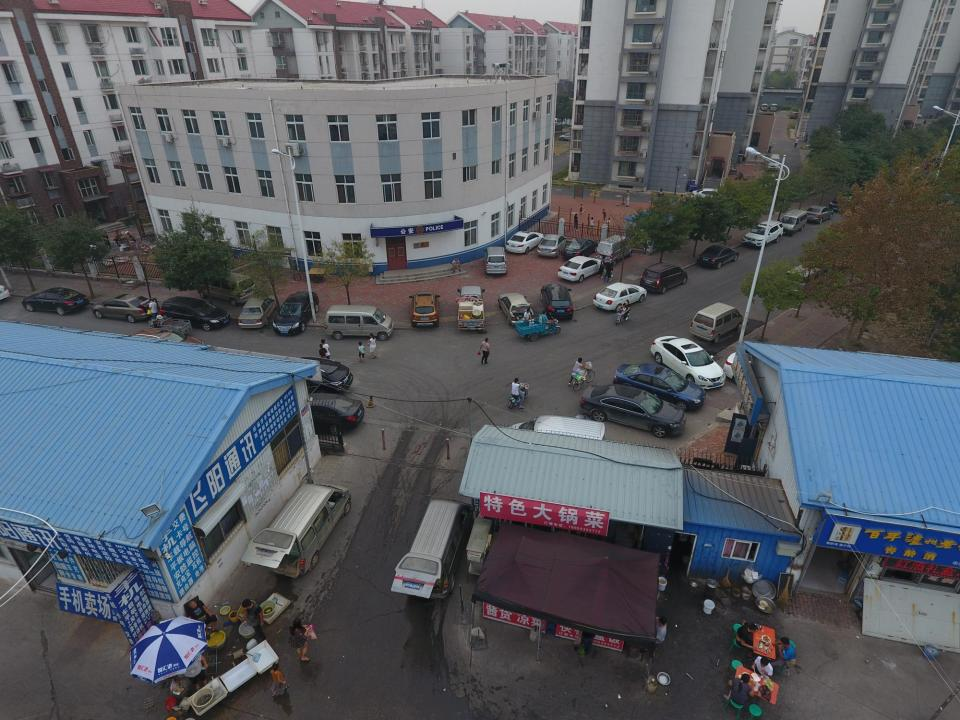car: (579, 384, 686, 438), (612, 363, 706, 411), (650, 335, 726, 389), (279, 392, 364, 436), (130, 327, 204, 370), (723, 352, 796, 394), (286, 355, 354, 394), (158, 296, 229, 331), (273, 291, 319, 334), (20, 286, 88, 315), (92, 293, 156, 323), (638, 261, 688, 294), (593, 282, 647, 310), (238, 296, 279, 328), (558, 256, 603, 283), (741, 220, 783, 248), (541, 284, 574, 319), (498, 293, 534, 325), (408, 292, 440, 328), (697, 242, 739, 269), (506, 231, 544, 255), (561, 238, 597, 260), (537, 234, 567, 258), (690, 187, 730, 204), (829, 190, 857, 212), (804, 204, 834, 223), (559, 132, 581, 140), (790, 111, 799, 118)
truck: (456, 286, 485, 330)
van: (241, 484, 351, 578), (390, 498, 475, 600), (507, 414, 606, 466), (324, 304, 394, 341), (195, 270, 258, 306), (690, 301, 743, 343), (784, 263, 823, 299), (595, 235, 632, 266), (777, 209, 807, 236), (483, 246, 508, 274), (767, 154, 781, 170), (549, 118, 565, 128), (760, 104, 768, 111), (771, 103, 777, 111)
